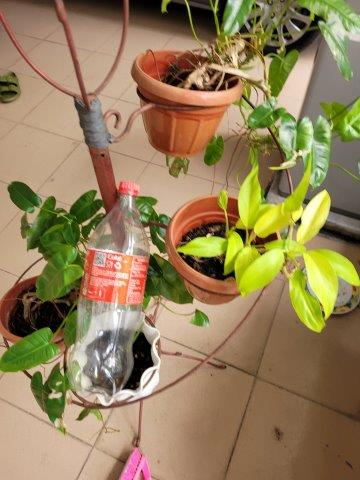botolplastik: (74, 184, 147, 401)
